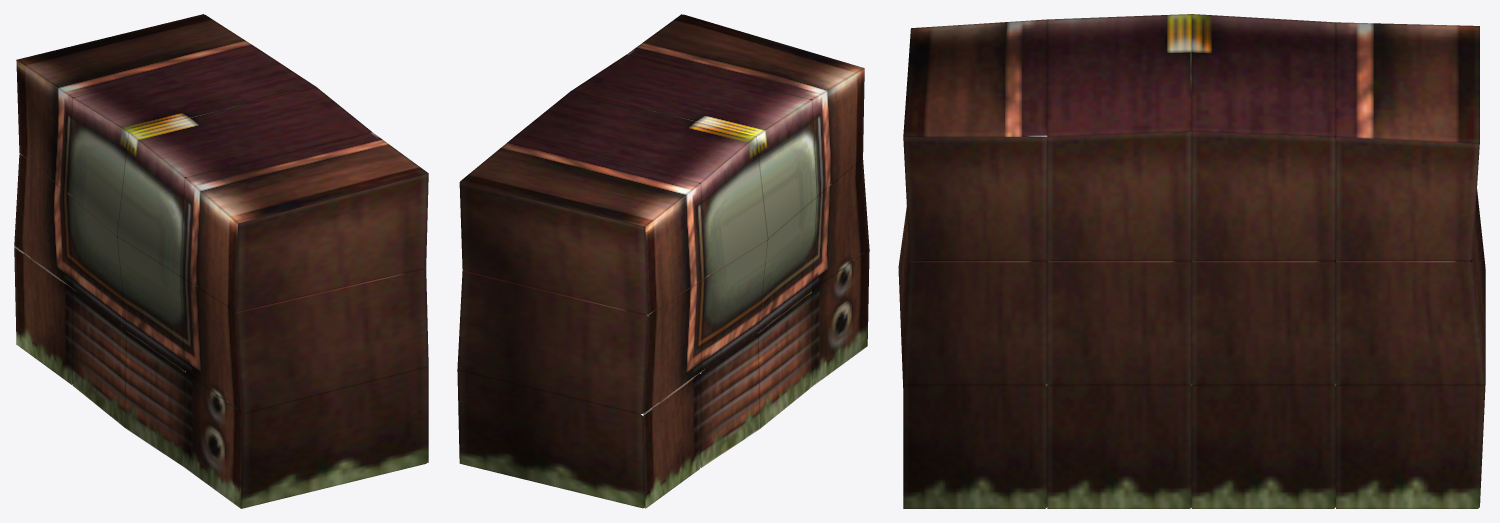
3 views of the same model, side by side, from view 1: azimuth 30°, elevation 25°; view 2: azimuth 150°, elevation 25°; view 3: azimuth 270°, elevation 25° (orthographic). The views are drawn at different scales.
Visible parts, largest first — view 1: T1L9M008_4; view 2: T1L9M008_4; view 3: T1L9M008_4.
Part boxes in pixels (box(x1,y1,x2,y2)): T1L9M008_4: box(14, 14, 428, 508); T1L9M008_4: box(457, 14, 869, 508); T1L9M008_4: box(898, 14, 1485, 508).
Bounding box in the file's own units: 0.7188 × 1.01 × 1.43.
